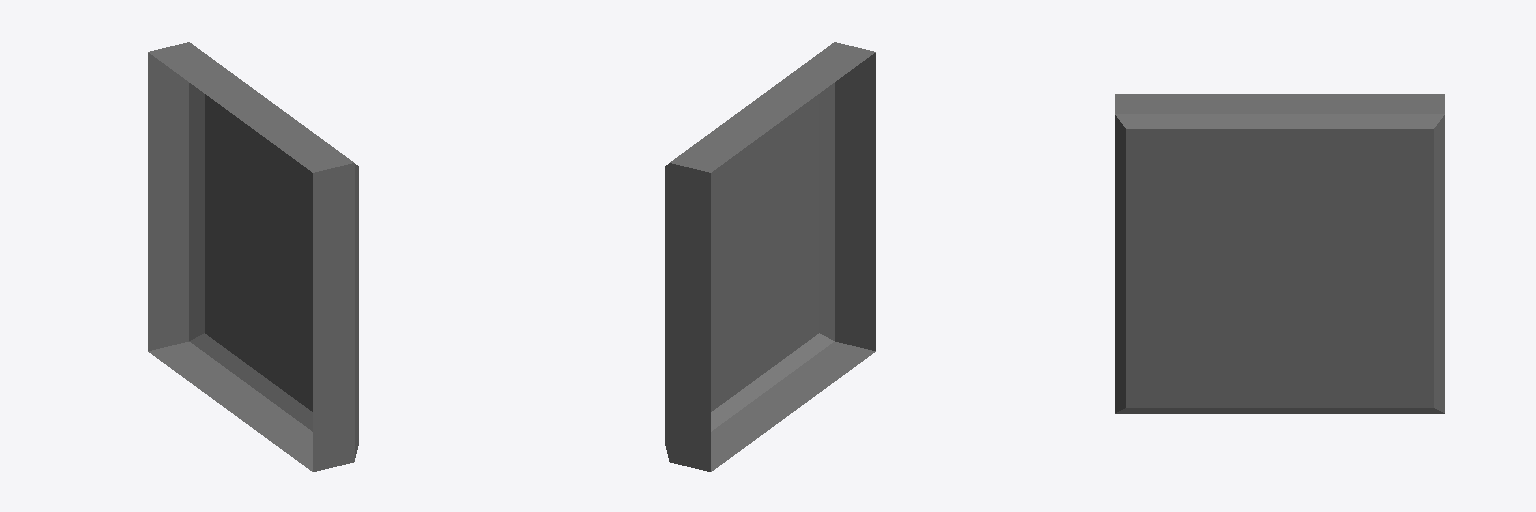
File: switchboard_mesh 1.obj
3 renders of one model, left to right at view 1: azimuth 30°, elevation 25°; view 2: azimuth 150°, elevation 25°; view 3: azimuth 270°, elevation 25°, orthographic.
Parts seen in each view (by area): view 1: switchboard_mesh; view 2: switchboard_mesh; view 3: switchboard_mesh.
Part boxes in pixels (x1,y1,x2,y2): switchboard_mesh: (148, 42, 358, 471); switchboard_mesh: (665, 42, 875, 471); switchboard_mesh: (1115, 94, 1444, 413).
Size of the model in its own units: 0.0223 by 0.1247 by 0.1247.